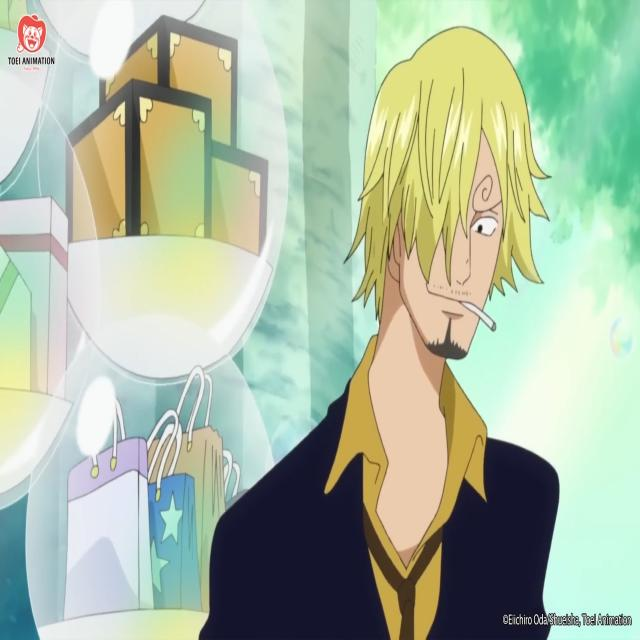Sanji: (105, 28, 562, 639)
